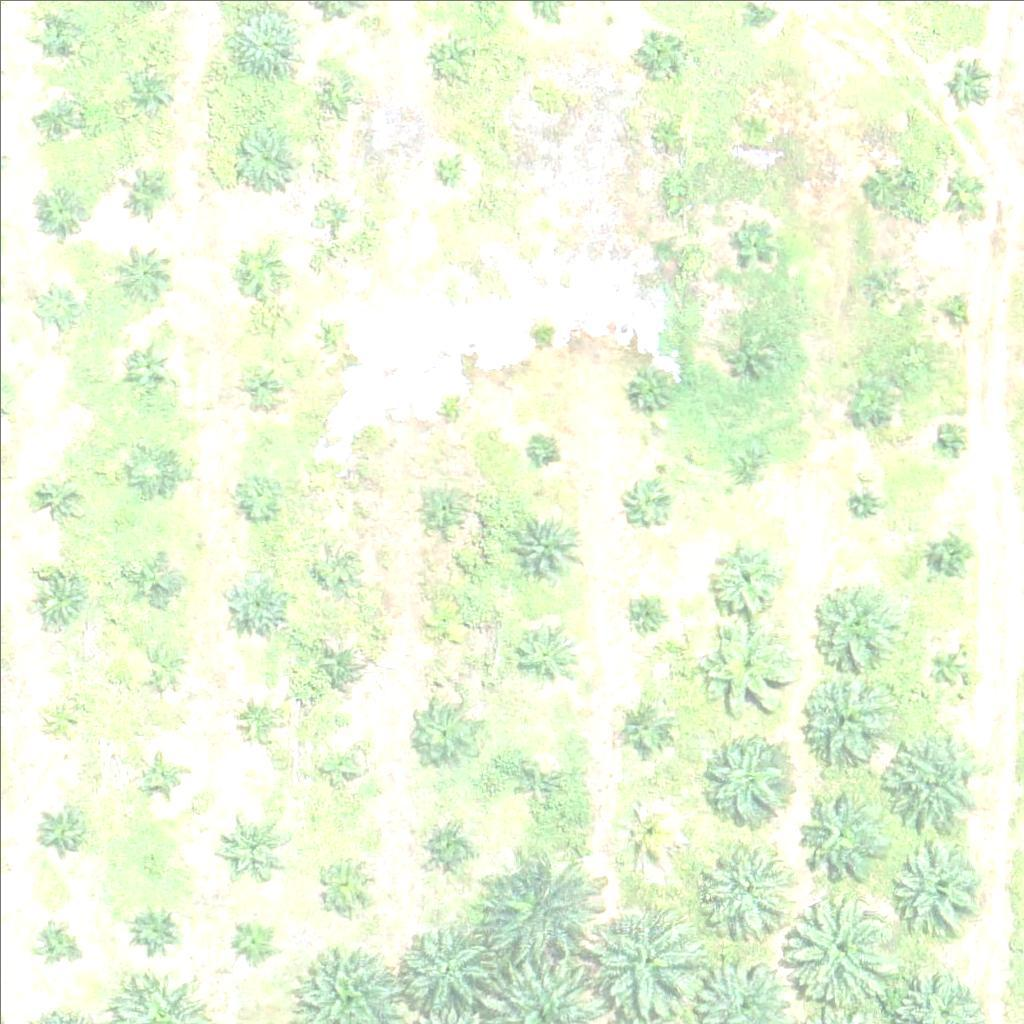Kelapa_Sawit: (473, 844, 598, 970), (780, 879, 905, 1004), (585, 899, 698, 1012), (887, 830, 987, 931), (697, 620, 797, 721), (879, 728, 979, 829), (696, 838, 784, 927), (702, 532, 790, 620), (400, 921, 488, 1009), (811, 583, 899, 671), (799, 675, 887, 763), (792, 788, 880, 876), (703, 743, 790, 831), (230, 120, 305, 196), (226, 6, 301, 82), (509, 508, 584, 584), (108, 240, 171, 303), (223, 807, 286, 870), (317, 853, 380, 916), (221, 571, 284, 634), (306, 736, 369, 799), (29, 171, 92, 234), (414, 698, 476, 761), (514, 619, 576, 682), (27, 567, 89, 630), (510, 749, 572, 812), (853, 160, 903, 211), (633, 30, 683, 81), (127, 444, 177, 495), (129, 562, 179, 613), (309, 640, 359, 691), (233, 697, 283, 748), (308, 546, 358, 597), (429, 819, 479, 870), (420, 600, 470, 651), (232, 473, 282, 524), (34, 473, 84, 524), (30, 283, 80, 334), (122, 341, 172, 392), (940, 166, 990, 217), (619, 703, 669, 753), (129, 905, 179, 955), (233, 240, 283, 290), (35, 807, 85, 857), (136, 643, 186, 693), (228, 910, 278, 960), (414, 480, 464, 530), (32, 95, 82, 145), (30, 11, 80, 61), (124, 75, 174, 125), (119, 170, 169, 220), (237, 357, 287, 407), (945, 54, 995, 104), (625, 474, 675, 524), (622, 360, 672, 410), (725, 221, 775, 271), (725, 328, 775, 378), (718, 442, 768, 492), (845, 372, 895, 422), (926, 532, 976, 582), (618, 803, 668, 853), (923, 641, 973, 691), (42, 701, 80, 739), (139, 756, 177, 794), (428, 31, 465, 69), (34, 921, 71, 959), (736, 108, 774, 145), (862, 263, 900, 300), (644, 113, 681, 151), (530, 435, 555, 461), (318, 79, 343, 105), (325, 325, 350, 350), (320, 197, 345, 222), (437, 154, 462, 179), (437, 398, 462, 423), (939, 426, 964, 451), (946, 296, 971, 321), (629, 600, 654, 625), (531, 209, 556, 234), (852, 490, 876, 515)
